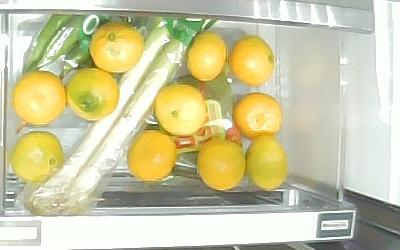tangerine: (12, 71, 67, 125), (90, 22, 145, 72), (68, 68, 120, 120), (11, 132, 64, 183), (127, 130, 178, 181), (154, 84, 206, 134), (197, 138, 246, 189), (228, 35, 275, 86), (246, 137, 287, 189), (234, 92, 281, 136), (187, 30, 226, 82)
